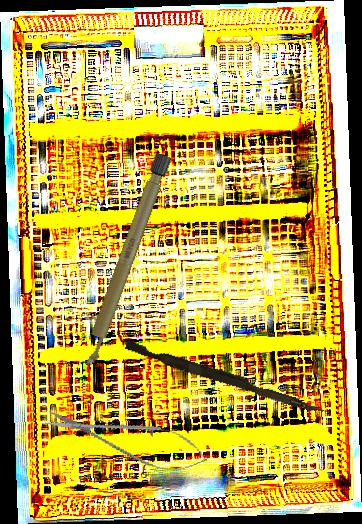Micro Scissor: (41, 397, 213, 481)
Pusher: (123, 339, 327, 416)
Scalpel Handle: (78, 152, 173, 368)
